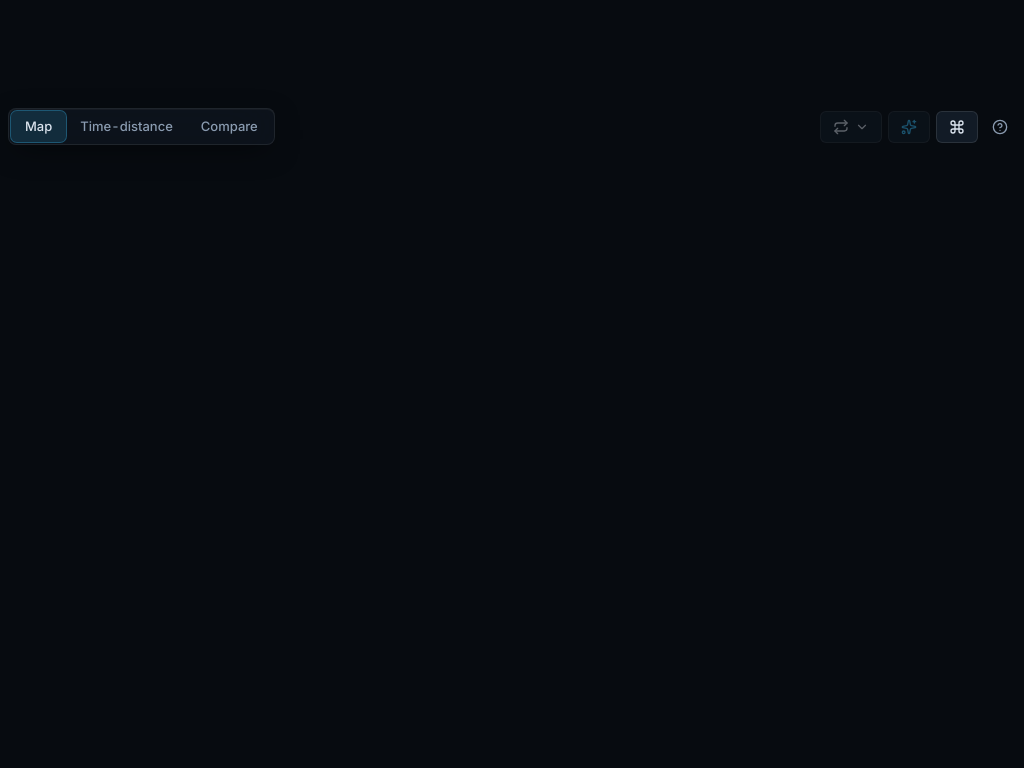
command palette and help › shows an empty state when nothing matches
The image size is (1024, 768).
Press k
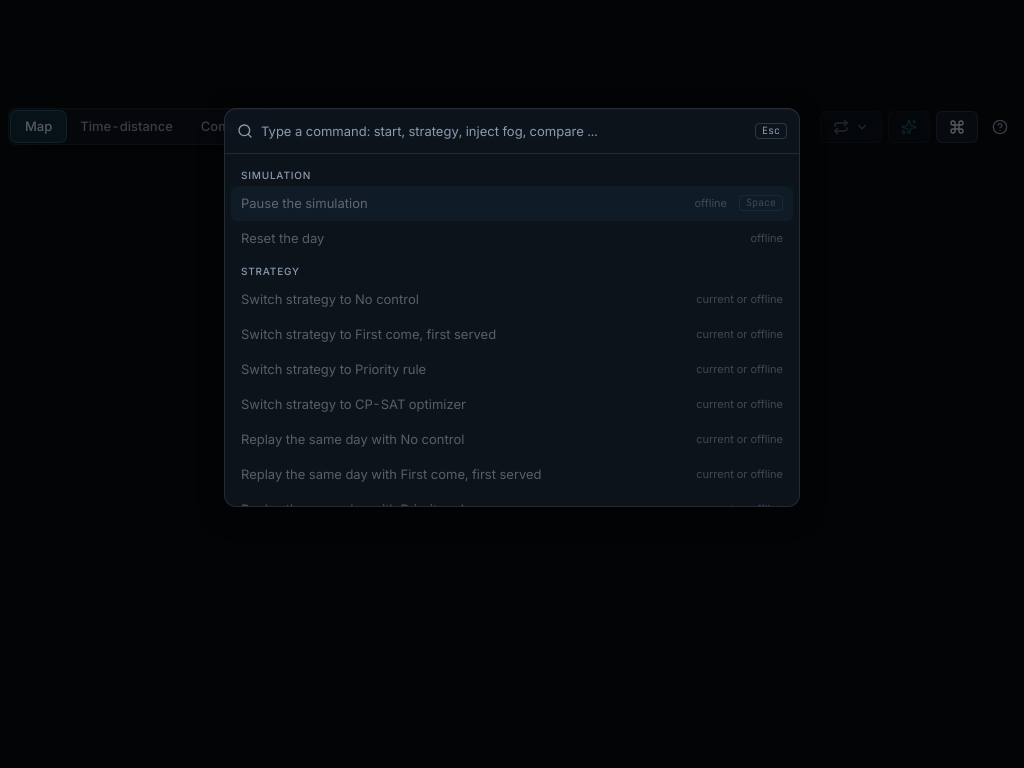
Type "zzzzqq" into the dropdown labelled "Type a command" at (504, 130), box [261,108,747,152]
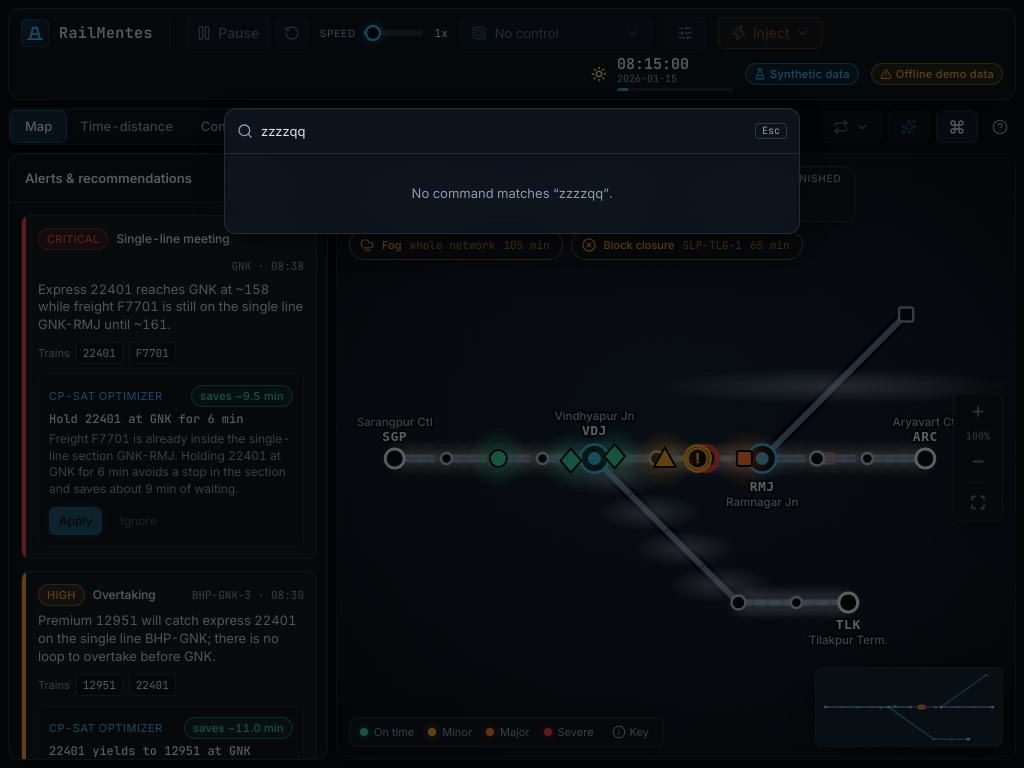
Expected: the list item "No command matches “zzzzqq”." is shown, [412,184,612,200]
